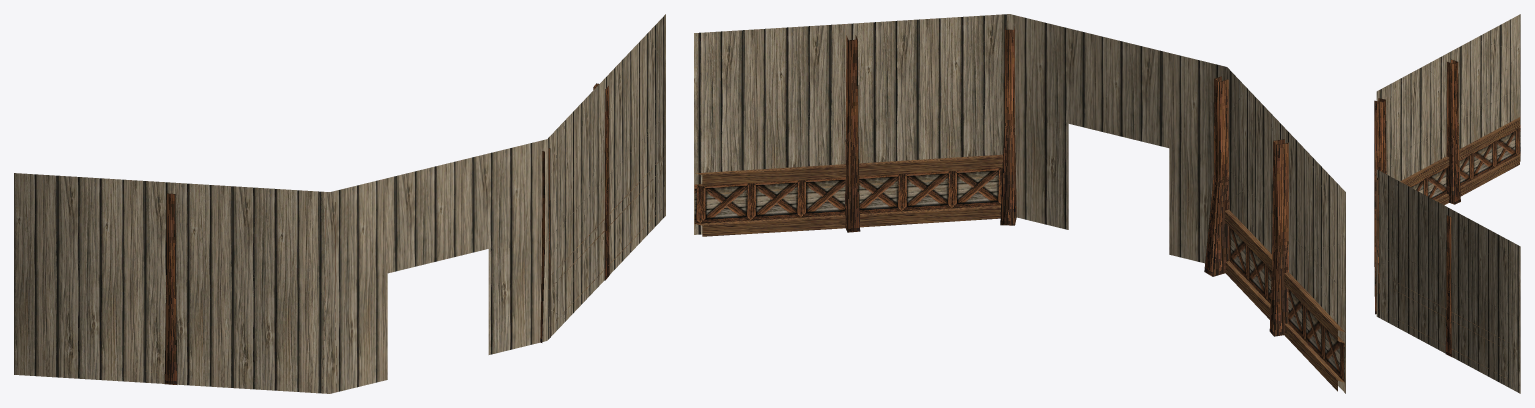
File: LAKETOWN_WAREHOUSE2_PS_WH2_SIDEWALL4884__GX.obj
3 renders of one model, left to right at view 1: azimuth 30°, elevation 25°; view 2: azimuth 150°, elevation 25°; view 3: azimuth 270°, elevation 25°, orthographic. The views are drawn at different scales.
Visible parts, largest first — view 1: ideWall4884__GX; view 2: ideWall4884__GX; view 3: ideWall4884__GX.
Part boxes in pixels (box(x1,y1,x2,y2)): ideWall4884__GX: box(14, 14, 665, 393); ideWall4884__GX: box(694, 14, 1345, 393); ideWall4884__GX: box(1374, 14, 1520, 393).
Bounding box in the file's own units: 1763 × 523 × 469.
